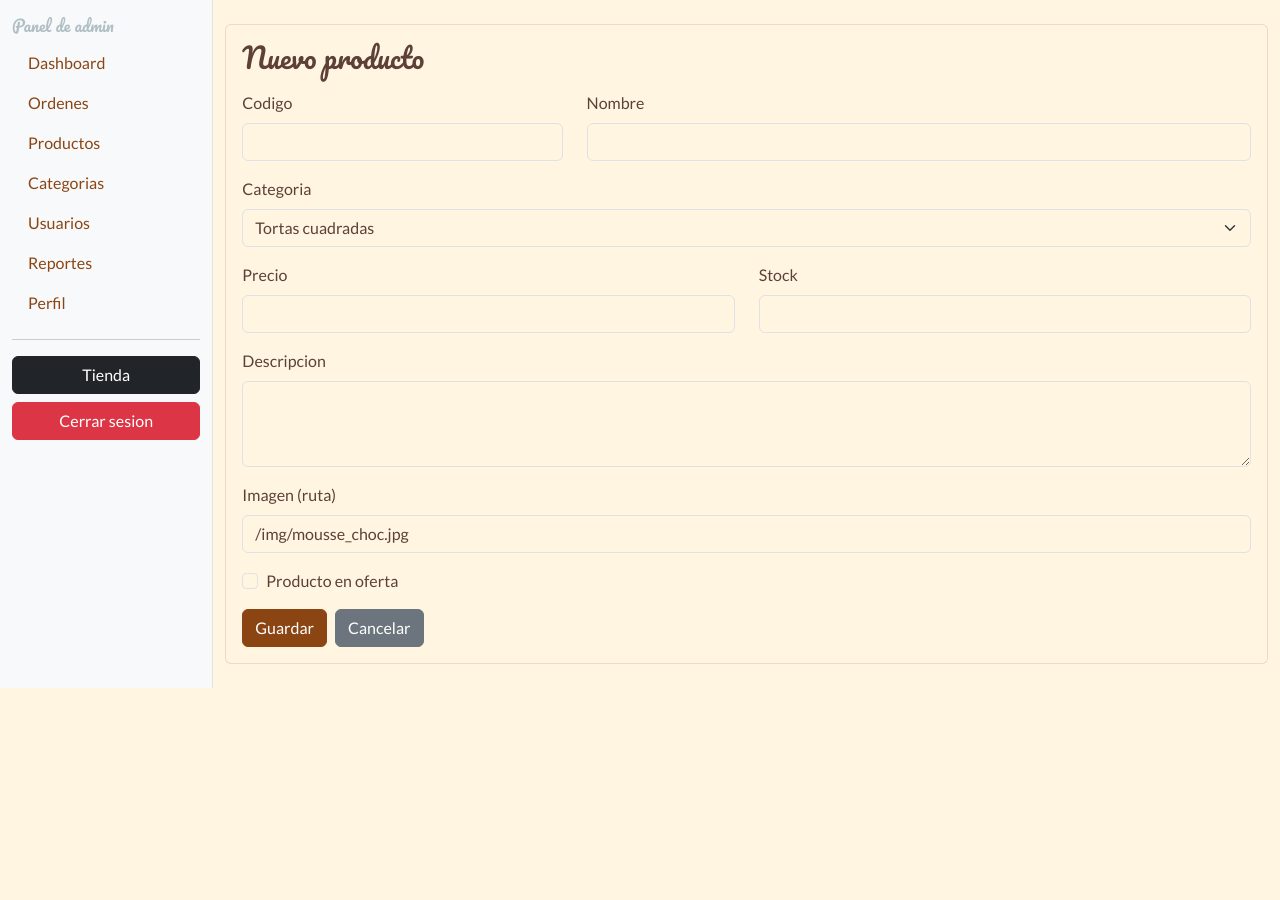
Test: Panel de admin › no deja crear un producto con un codigo repetido
Step 1. Type "TC001" into the field labelled "Codigo" → (402, 142), box [242,123,562,161]
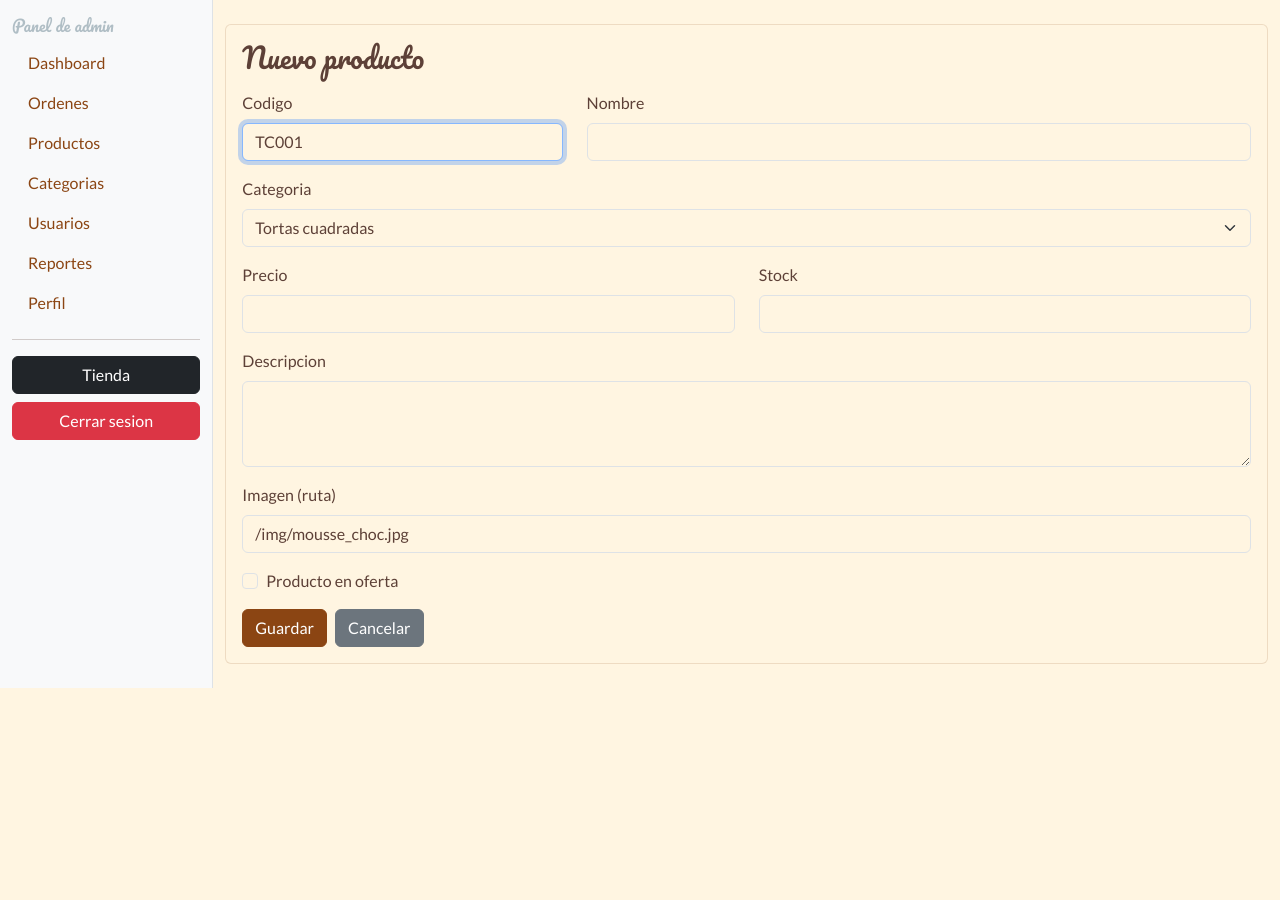
Step 2. Type "Otra torta" into the field labelled "Nombre" → (919, 142), box [586,123,1251,161]
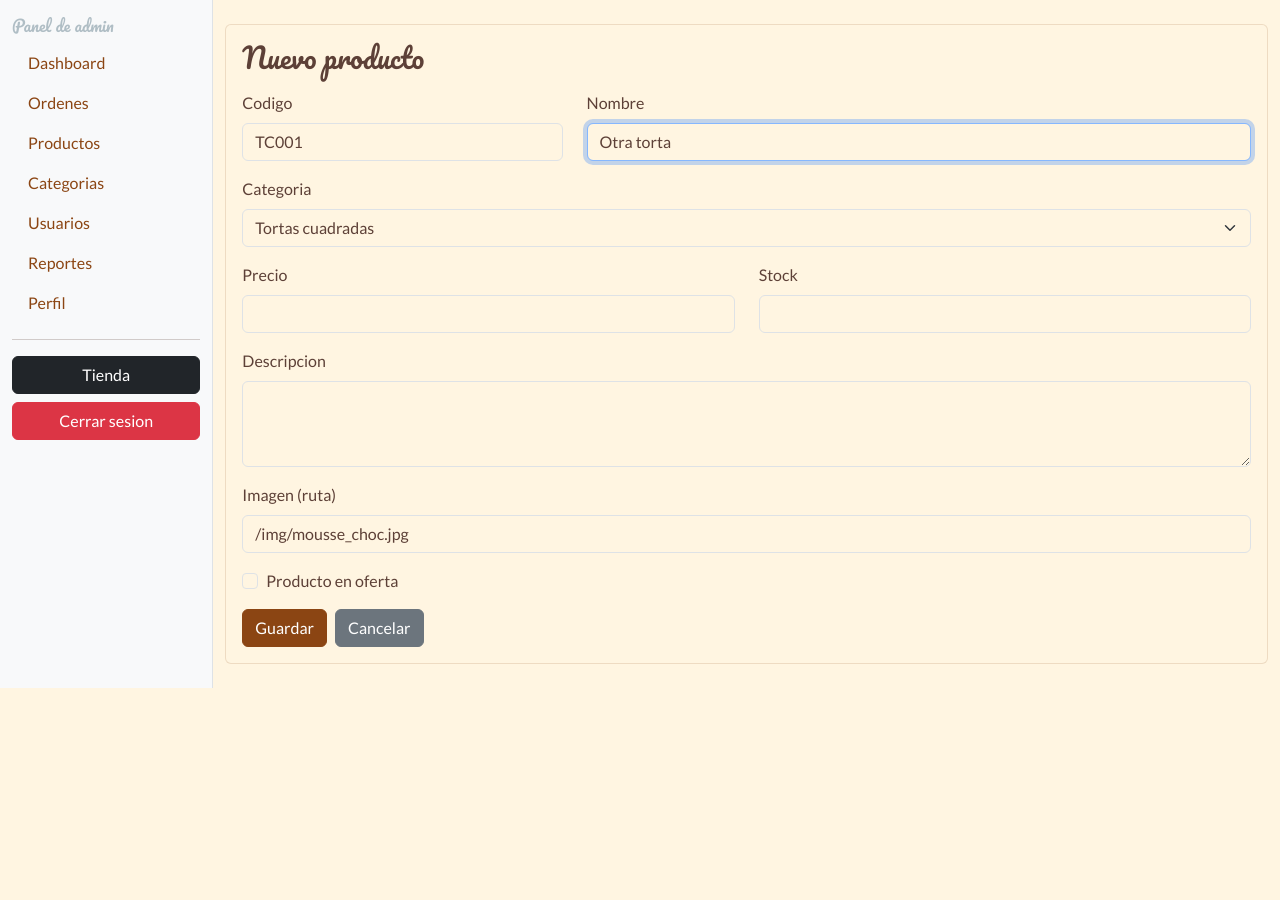
Step 3. Type "1000" into the number field labelled "Precio" → (488, 314), box [242,295,735,333]
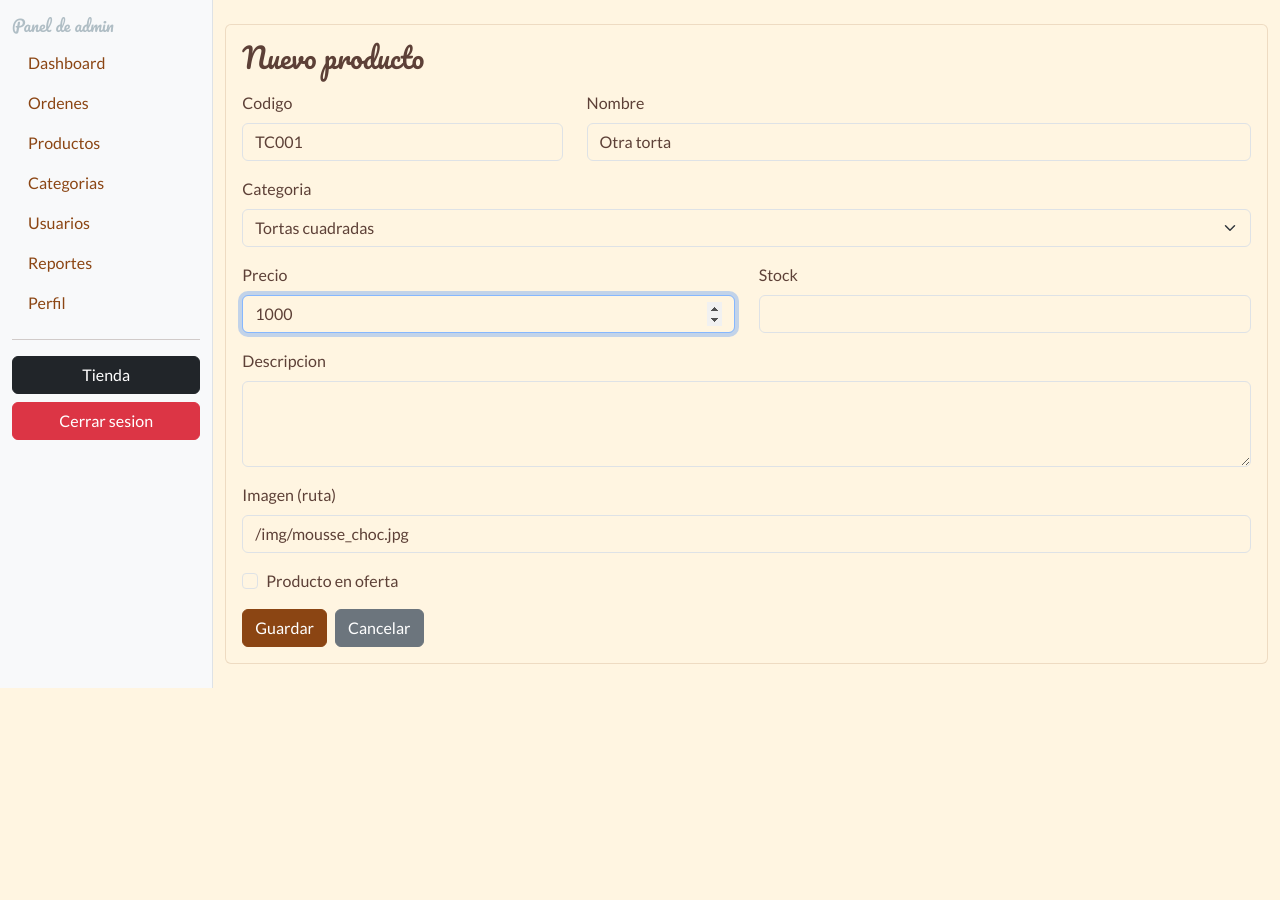
Step 4. Type "5" into the number field labelled "Stock" → (1005, 314), box [759,295,1251,333]
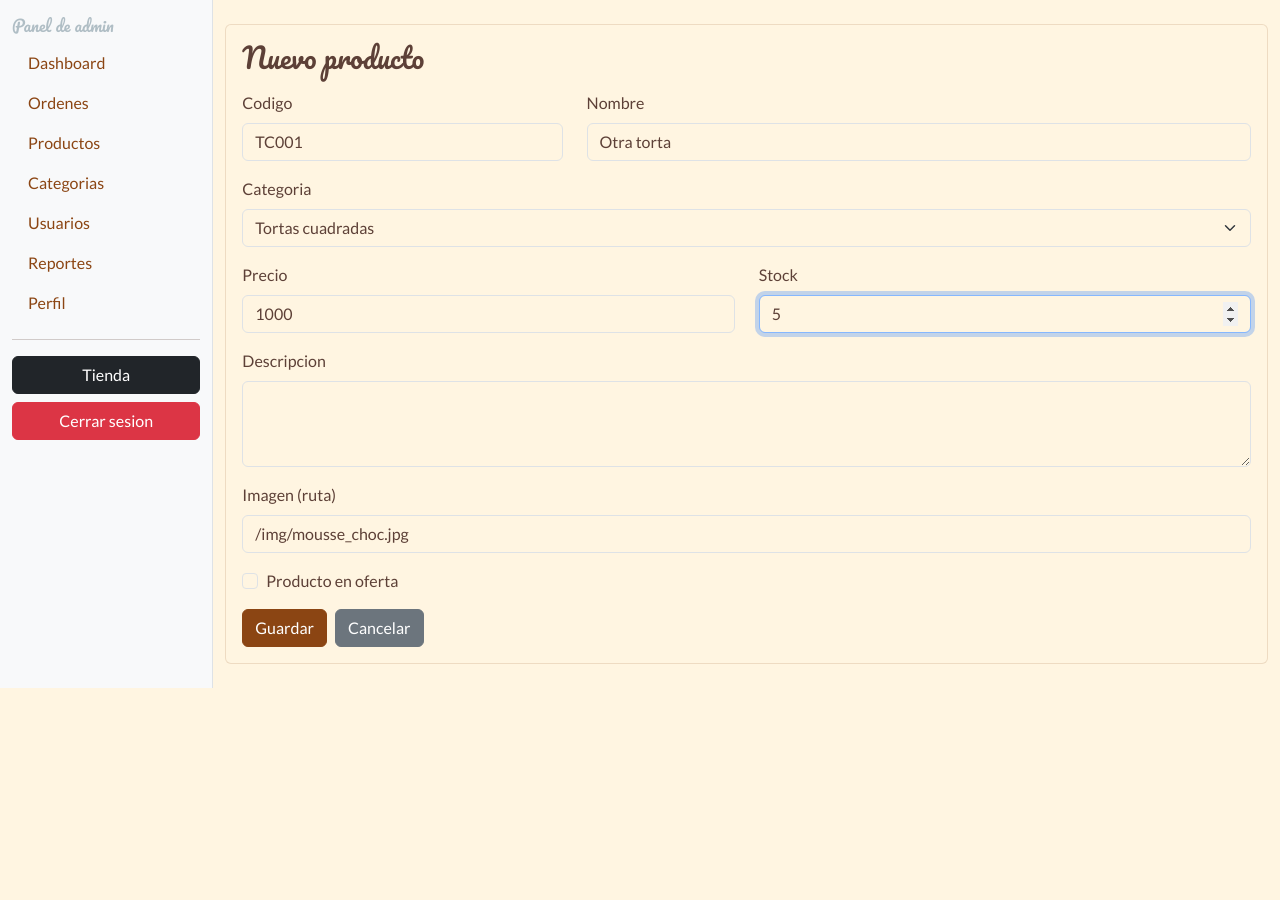
Step 5. Click the button "Guardar" → (285, 628), box [242,609,327,647]
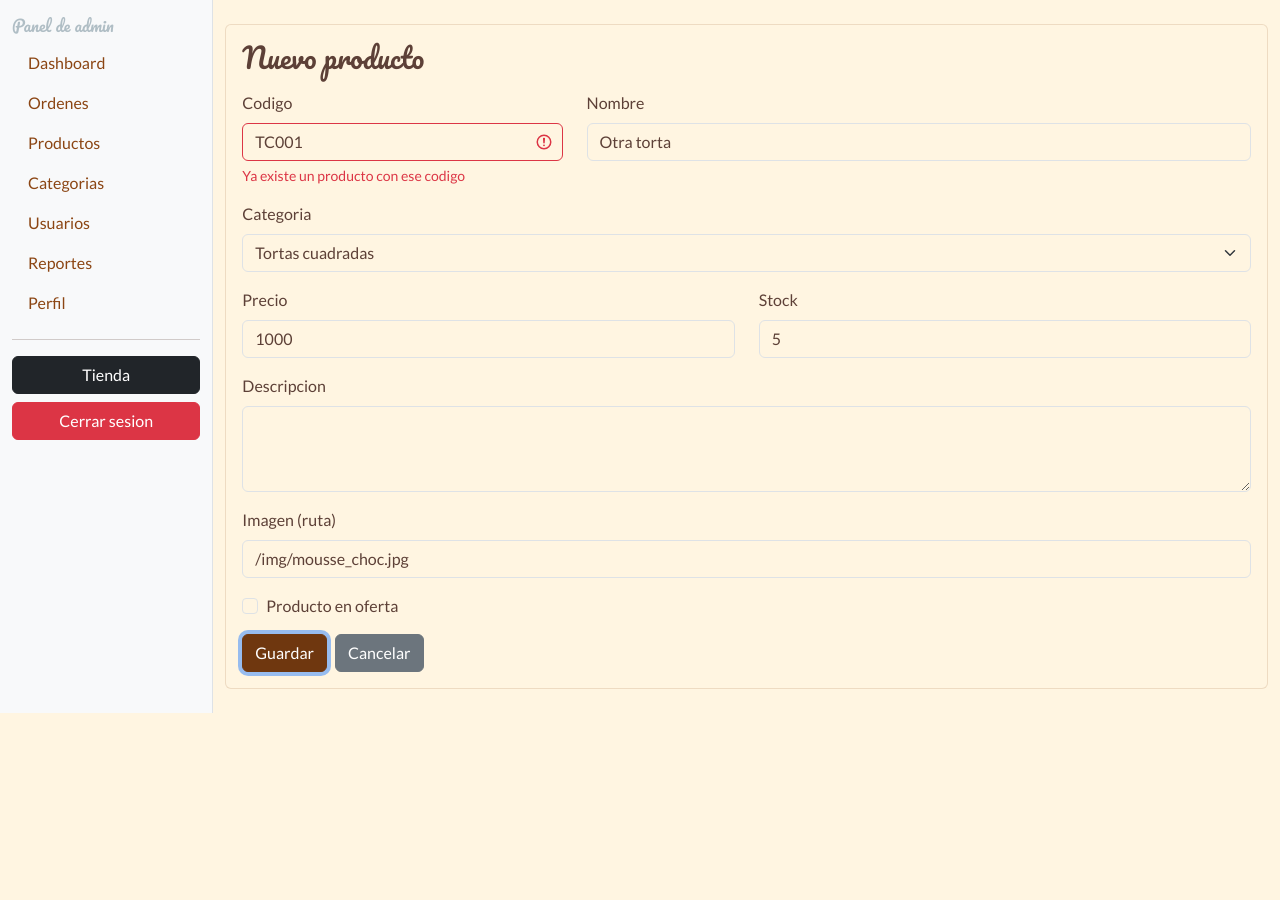
Result: the text "Ya existe un producto con ese codigo" is shown at [242,167,465,184]
